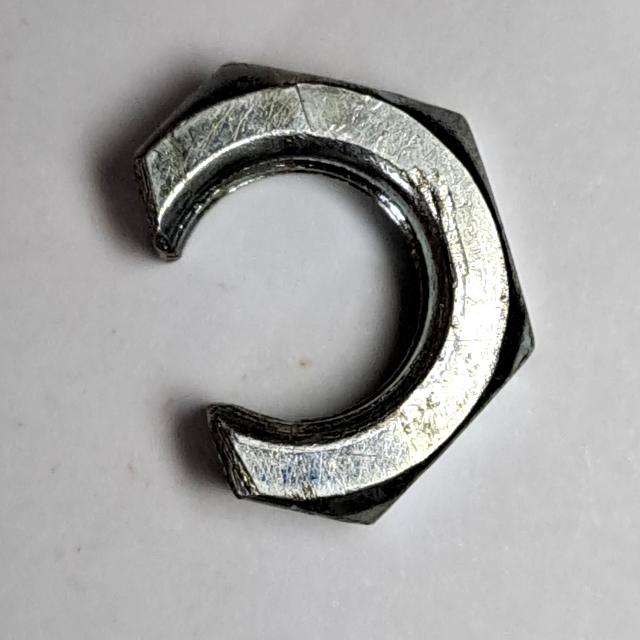Fracture: (117, 51, 547, 539)
